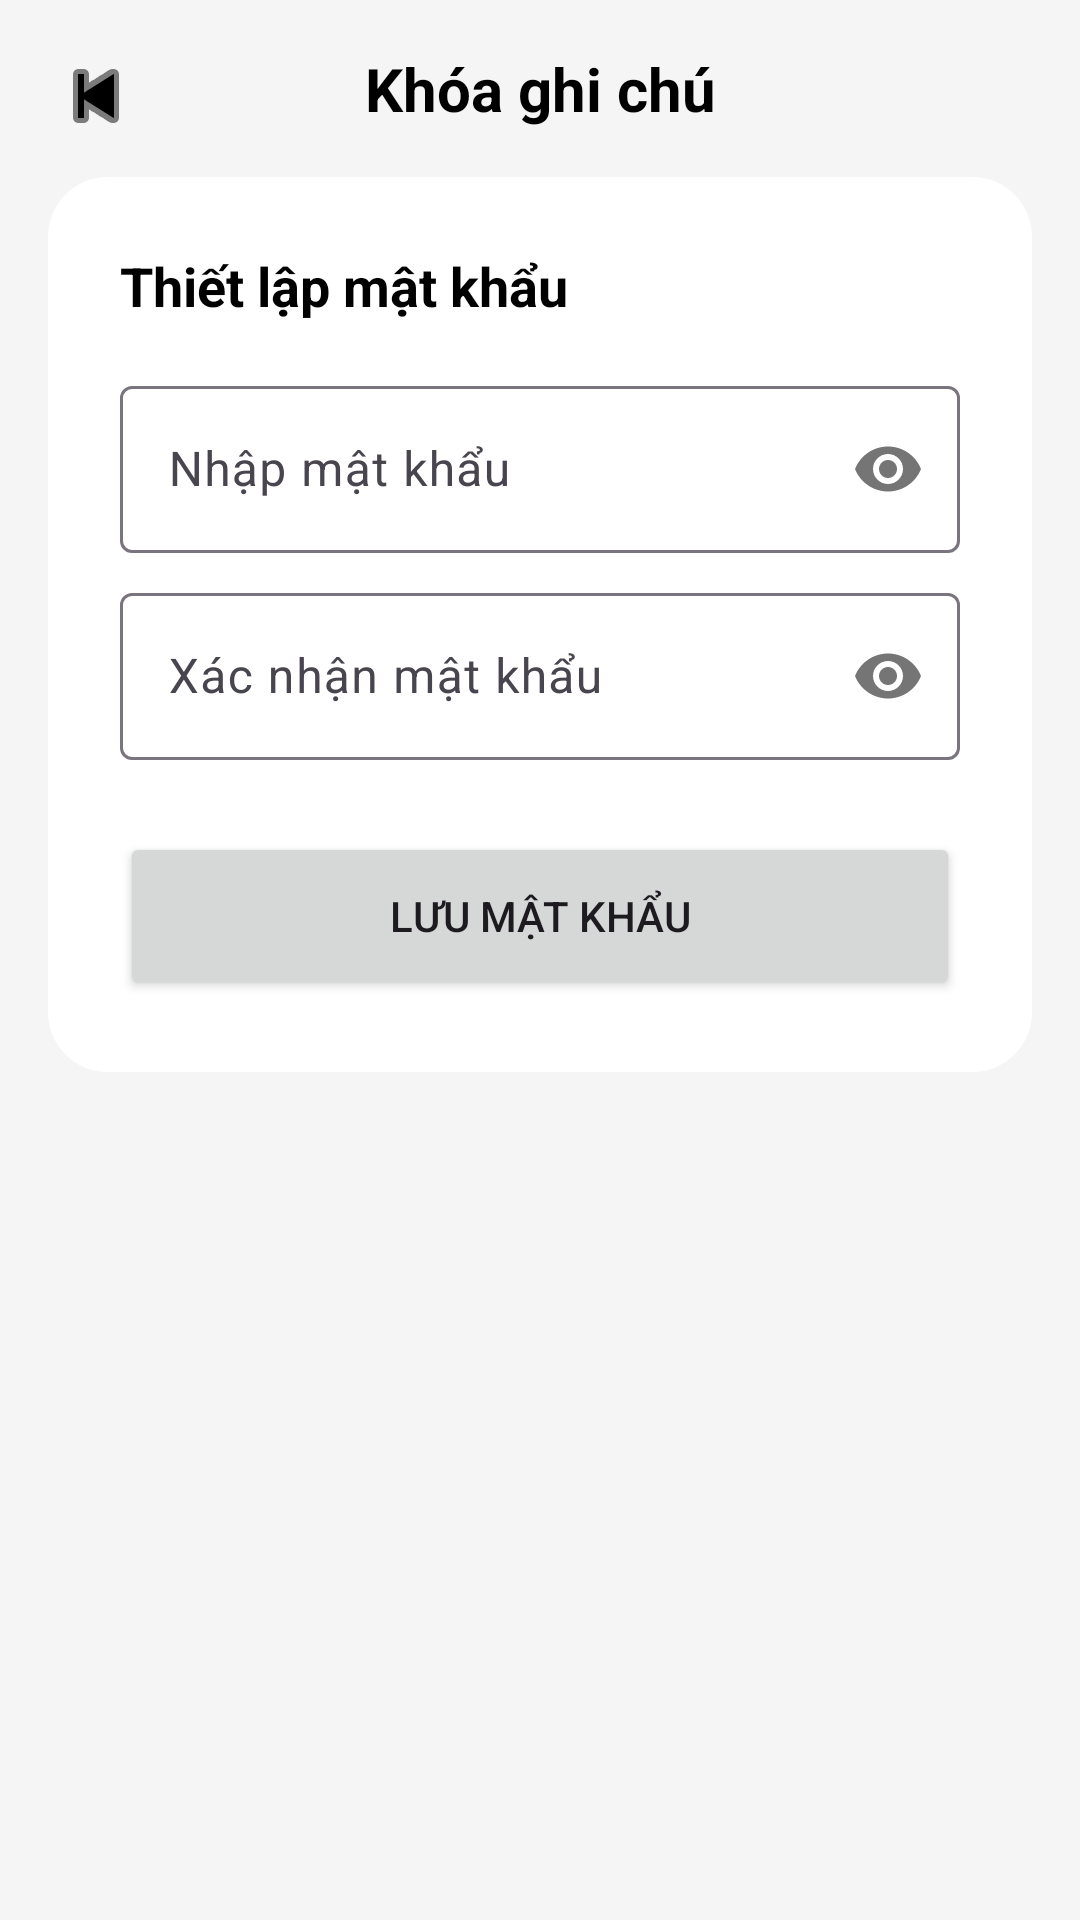

Where icons sit on this 1080*1920 app screen, as (x1, y1, x2, y2):
previous: (73, 69, 119, 123)
